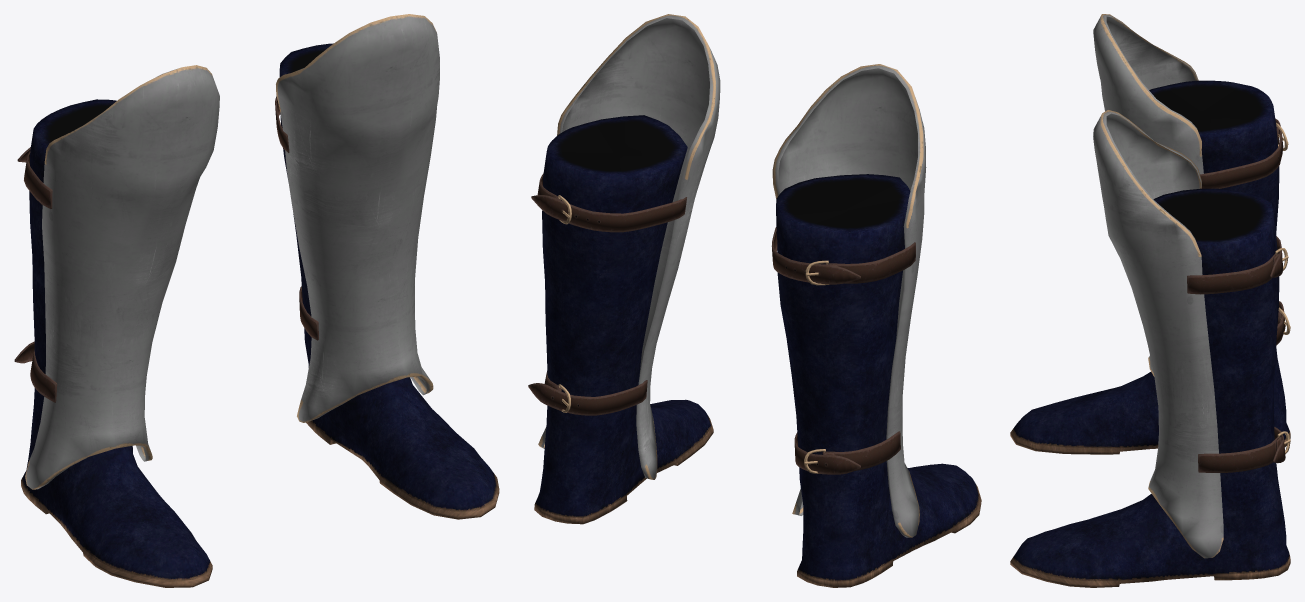
The model's file is swan_knight_greaves_a.fbx.
3 renders of one model, left to right at view 1: azimuth 30°, elevation 25°; view 2: azimuth 150°, elevation 25°; view 3: azimuth 270°, elevation 25°, orthographic. The views are drawn at different scales.
Parts seen in each view (by area): view 1: swan_knight_greaves_a; view 2: swan_knight_greaves_a; view 3: swan_knight_greaves_a.
Boxes of the visible parts, <box> form: swan_knight_greaves_a: <box>14,14,499,587</box>; swan_knight_greaves_a: <box>528,14,981,587</box>; swan_knight_greaves_a: <box>1010,14,1290,587</box>.
Size of the model in its own units: 0.4728 by 0.315 by 0.5374.
Materials: 1 (1 with a texture image).
